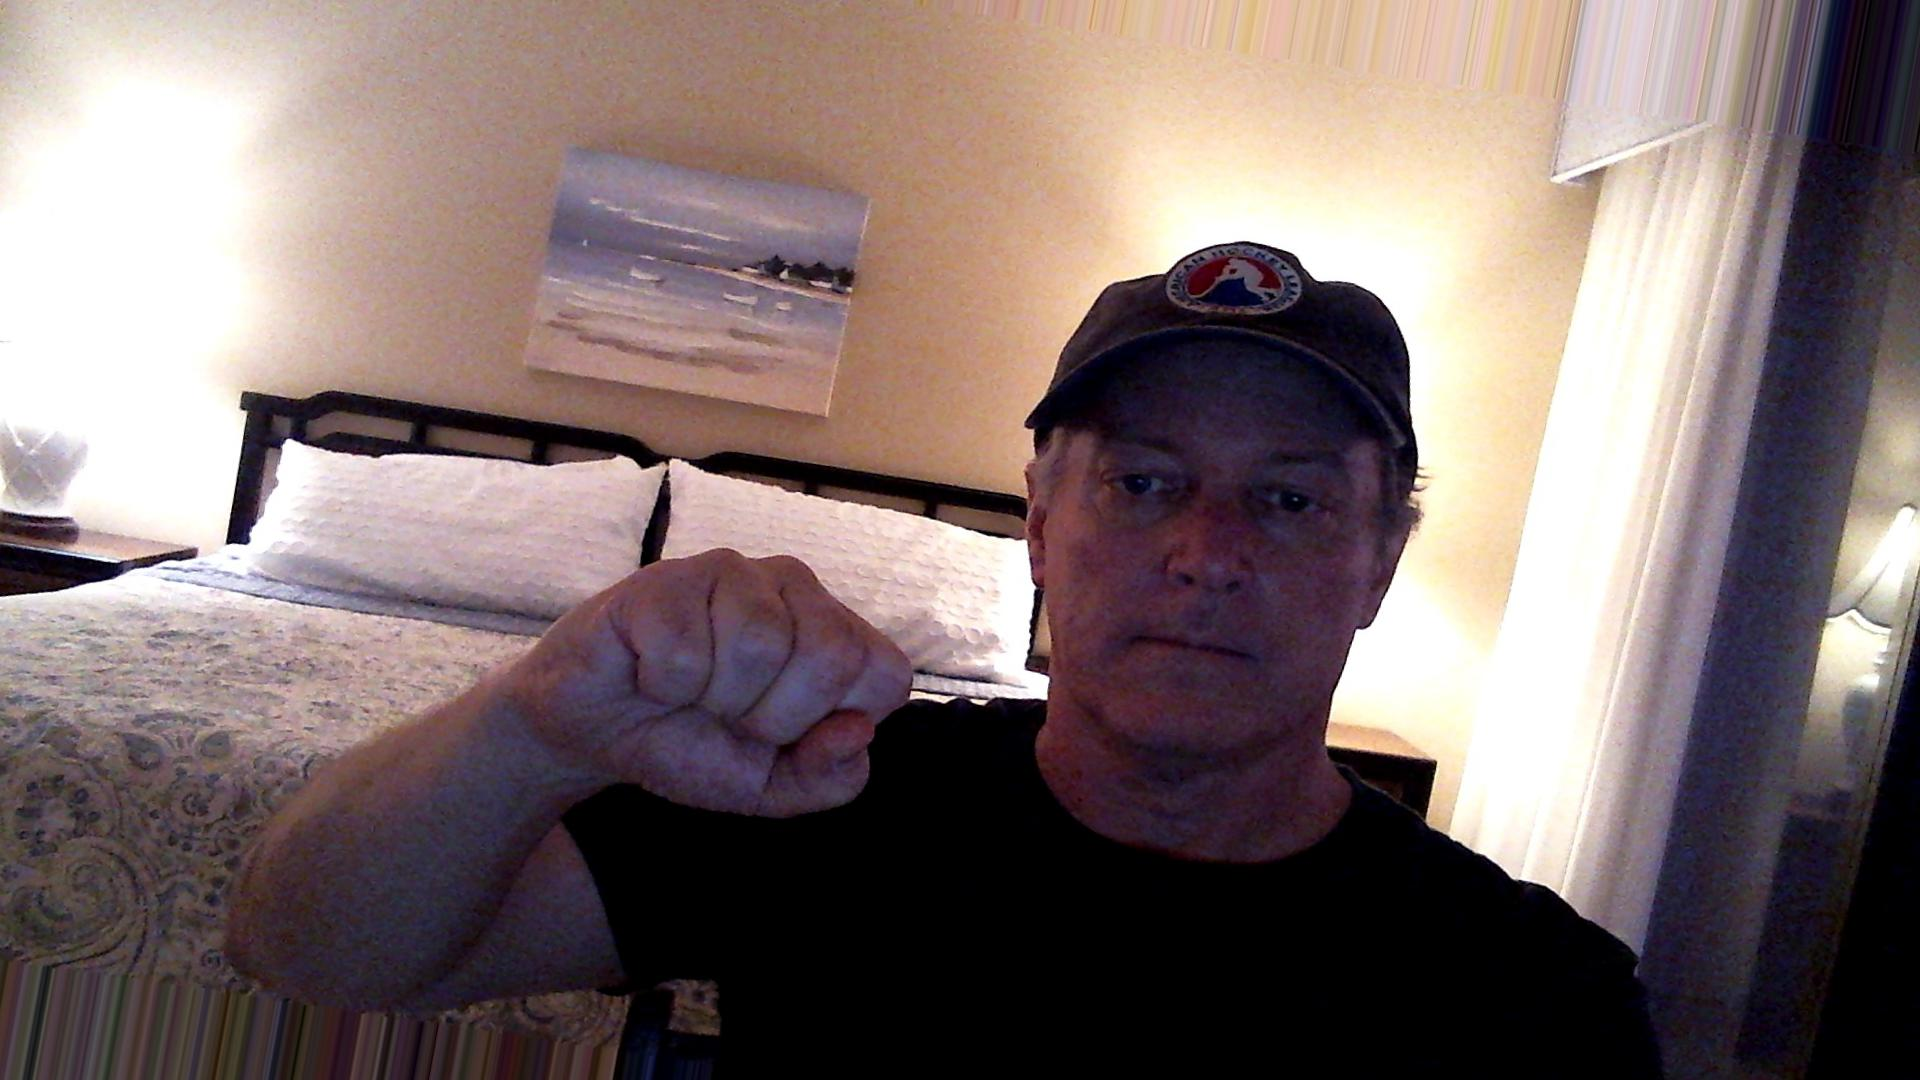Yes: (512, 534, 919, 833)
